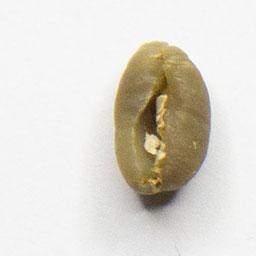peaberry: (108, 35, 214, 201)
